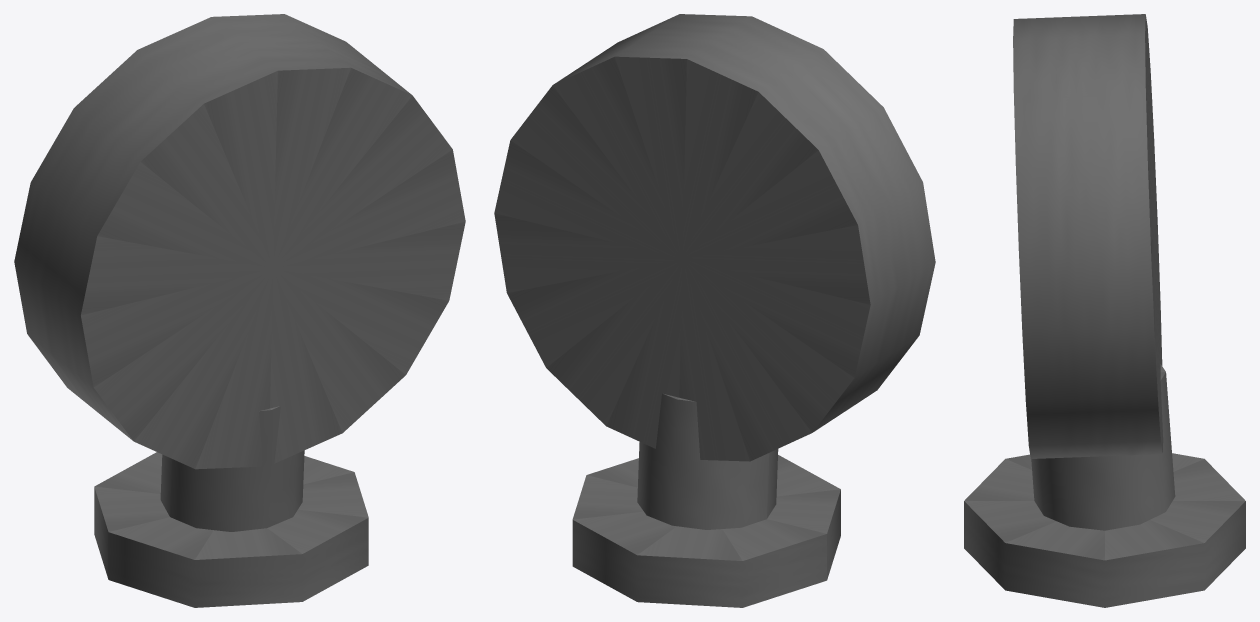
The model's file is mastarmcurve_5x1_c5_down.obj.
The picture shows the model from 3 angles, left to right: view 1: azimuth 30°, elevation 25°; view 2: azimuth 150°, elevation 25°; view 3: azimuth 270°, elevation 25°; orthographic projection. The views are drawn at different scales.
Visible parts, largest first — view 1: mastarm_5x1_c5_down; view 2: mastarm_5x1_c5_down; view 3: mastarm_5x1_c5_down.
Part boxes in pixels (x1=…): mastarm_5x1_c5_down: x1=14, y1=14, x2=465, y2=607; mastarm_5x1_c5_down: x1=494, y1=14, x2=935, y2=607; mastarm_5x1_c5_down: x1=964, y1=14, x2=1245, y2=607.
Size of the model in its own units: 0.6256 by 0.8048 by 0.4.
